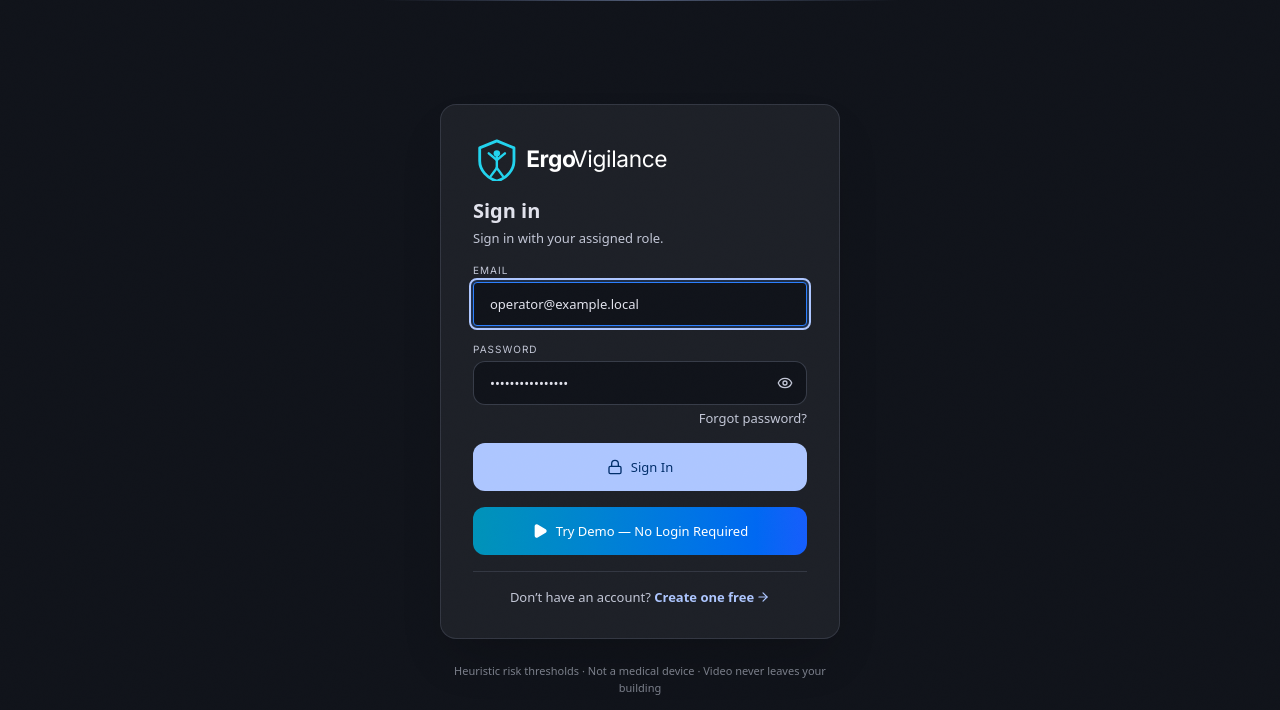
Test case: frontend smoke › loads the sessions list
The image size is (1280, 710).
Expected: the heading "Sign in" is shown, [473,197,540,224]
Click the button "Sign In" at (640, 467), box [473,443,807,491]
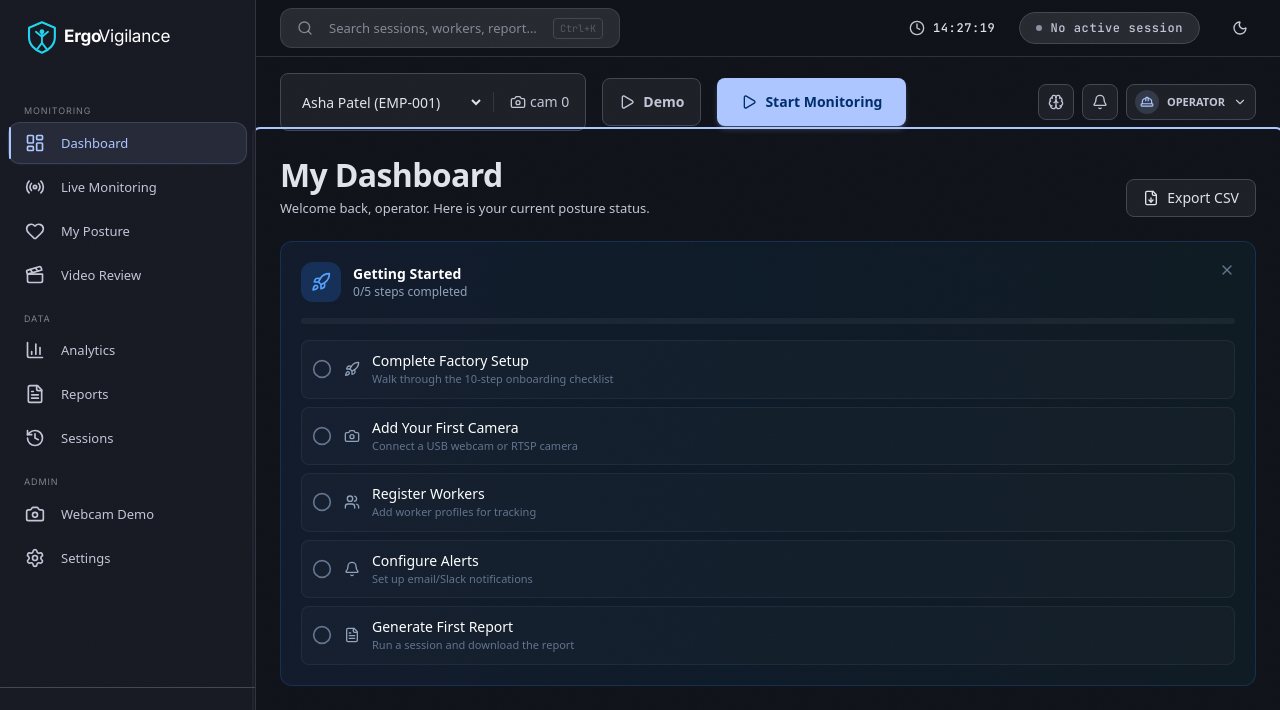
Expected: the heading "My Dashboard" is shown, [280,153,502,196]
Click the link "Sessions" at (69, 438), box [25,428,113,448]
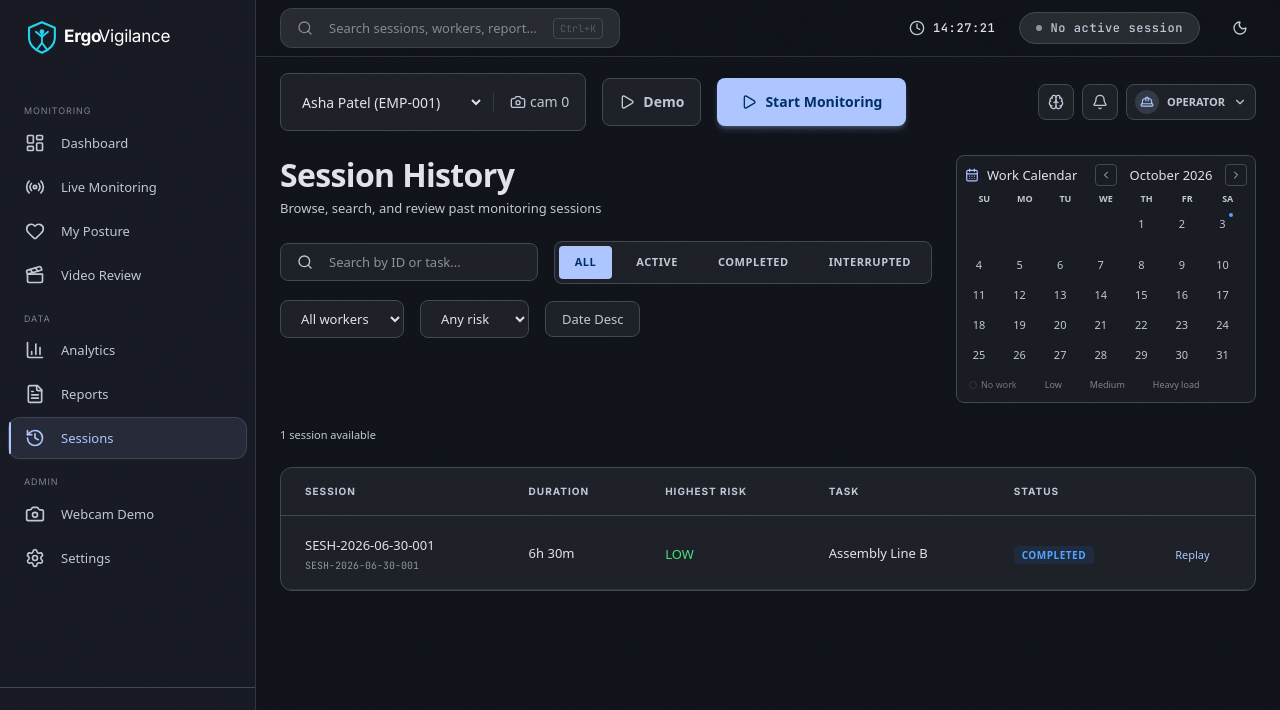
Expected: the 1st text "SESH-2026-06-30-001" is shown, [305,536,435,554]
